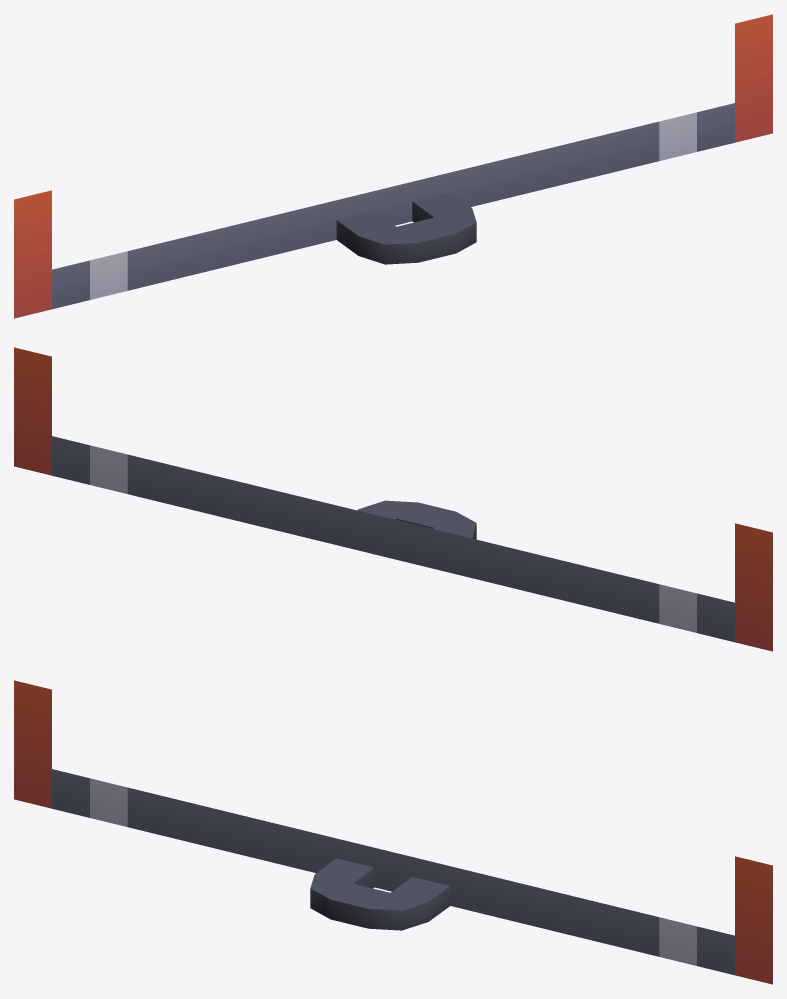
The model's file is track-road-wide-cap-back.glb.
The picture shows the model from 3 angles, top to bottom: view 1: azimuth 30°, elevation 25°; view 2: azimuth 150°, elevation 25°; view 3: azimuth 330°, elevation 25°; orthographic projection.
Visible parts, largest first — view 1: track-road-wide-cap-back; view 2: track-road-wide-cap-back; view 3: track-road-wide-cap-back.
Boxes of the visible parts, left/top/right/bottom form: track-road-wide-cap-back: left=14, top=14, right=772, bottom=318; track-road-wide-cap-back: left=14, top=347, right=772, bottom=651; track-road-wide-cap-back: left=14, top=680, right=772, bottom=984.
Size of the model in its own units: 2 by 0.2999 by 0.2.
Materials: 1 (1 with a texture image).
